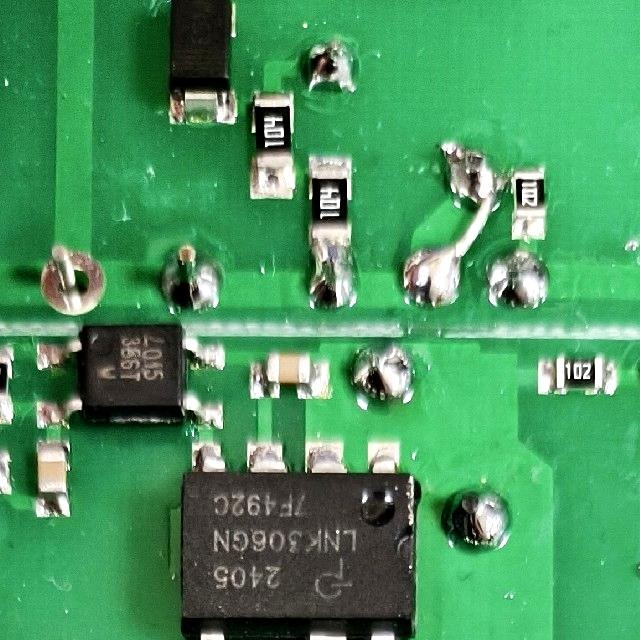chip-capacitor: (245, 352, 333, 401), (33, 435, 75, 521)
chip-resistor: (248, 86, 299, 202), (306, 153, 355, 251), (535, 351, 620, 397), (508, 162, 549, 244)
diode: (163, 0, 241, 128)
ic: (174, 437, 426, 640), (32, 322, 228, 434)
